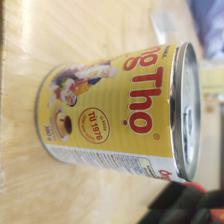Ong_tho: (35, 39, 205, 183)
